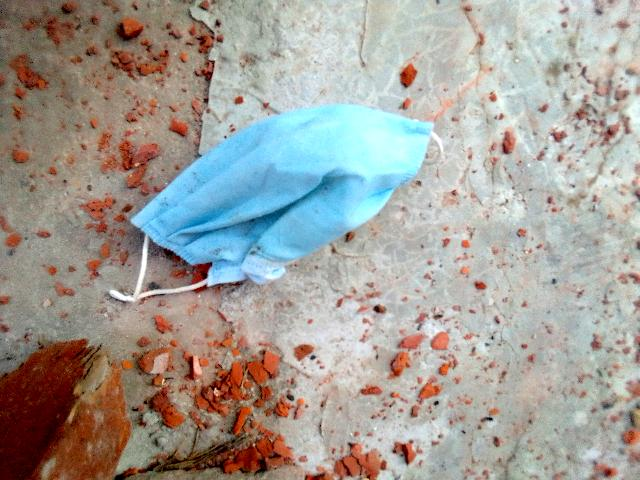mask: (145, 97, 432, 292)
